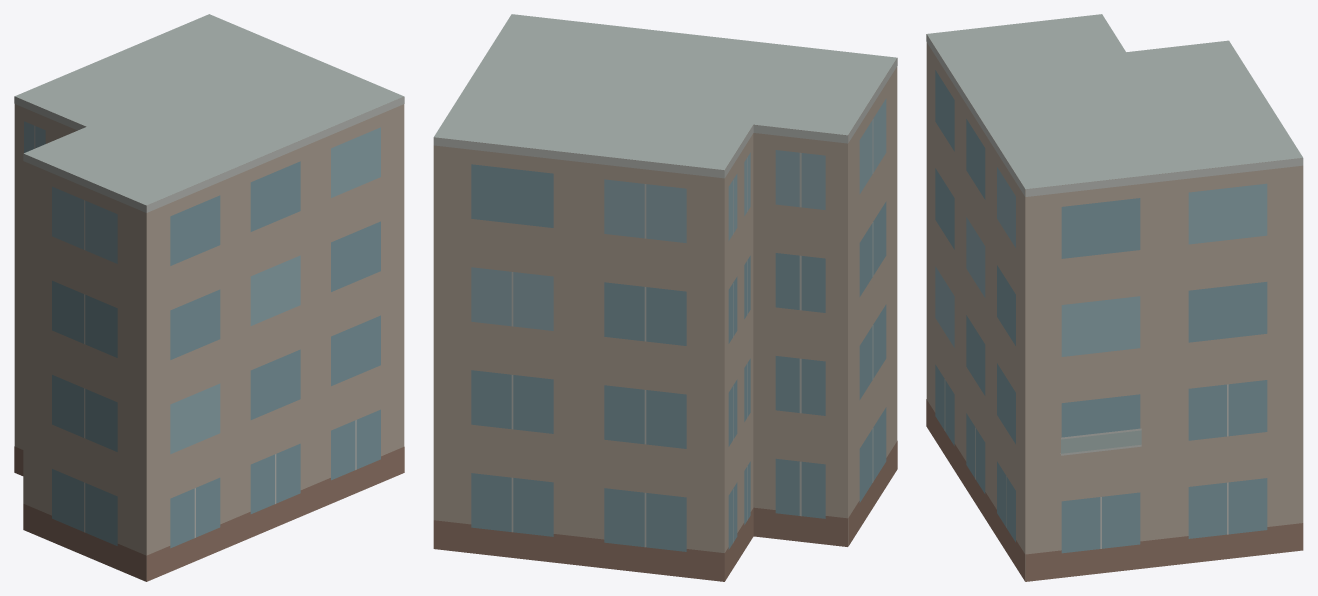
Rendered from residential-a6f4fb0c-bbac-403f-8cac-fbde950b769d.glb.
3 views of the same model, side by side, from view 1: azimuth 30°, elevation 25°; view 2: azimuth 150°, elevation 25°; view 3: azimuth 270°, elevation 25° (orthographic). The views are drawn at different scales.
Visible parts, largest first — view 1: residential-a6f4fb0c-bbac-403f-8cac-fbde950b769d.tmp; view 2: residential-a6f4fb0c-bbac-403f-8cac-fbde950b769d.tmp; view 3: residential-a6f4fb0c-bbac-403f-8cac-fbde950b769d.tmp.
Boxes of the visible parts, box(x1,y1,x2,y2) form: residential-a6f4fb0c-bbac-403f-8cac-fbde950b769d.tmp: box(14, 14, 404, 581); residential-a6f4fb0c-bbac-403f-8cac-fbde950b769d.tmp: box(433, 14, 897, 581); residential-a6f4fb0c-bbac-403f-8cac-fbde950b769d.tmp: box(926, 14, 1303, 581).
Bounding box in the file's own units: 11.69 × 12.2 × 10.62.
